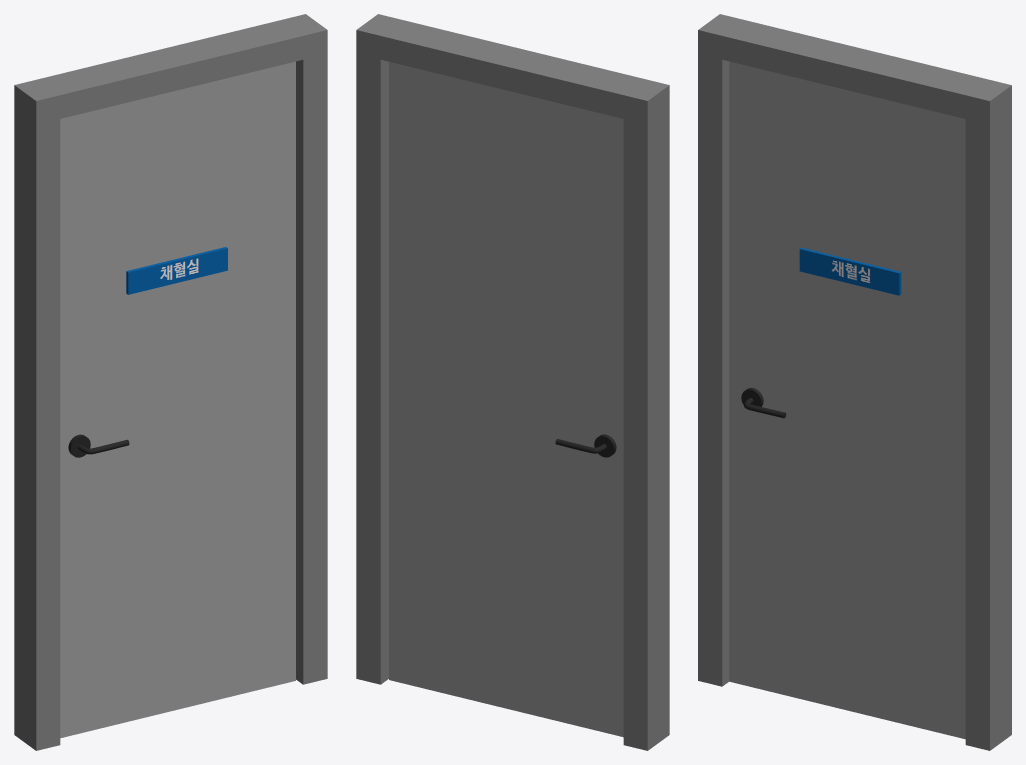
Rendered from Door 1.FBX.
3 views of the same model, side by side, from view 1: azimuth 30°, elevation 25°; view 2: azimuth 150°, elevation 25°; view 3: azimuth 330°, elevation 25° (orthographic).
Parts seen in each view (by area): view 1: Door 2, door frame 2; view 2: Door 2, door frame 2; view 3: Door 2, door frame 2.
Boxes of the visible parts, x1,y1,x2,y2 form: Door 2: (60, 61, 295, 738); door frame 2: (14, 14, 327, 750); Door 2: (389, 62, 623, 737); door frame 2: (356, 14, 669, 750); Door 2: (729, 61, 965, 739); door frame 2: (698, 14, 1011, 750).
Size of the model in its own units: 97.8 by 208 by 17.04.
Materials: 1 (1 with a texture image).
